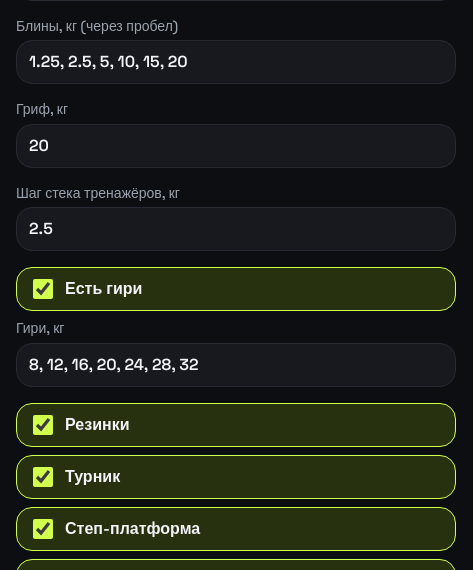
Test: инвентарь: вес грифа и шаг стека (§20.3) › текст в поле грифа — ошибка поля, а не молча пропавший гриф
Replace the text in the field labelled "Гриф, кг" with "двадцать" at point(236, 146), box [16,124,456,168]
(page scrolled)
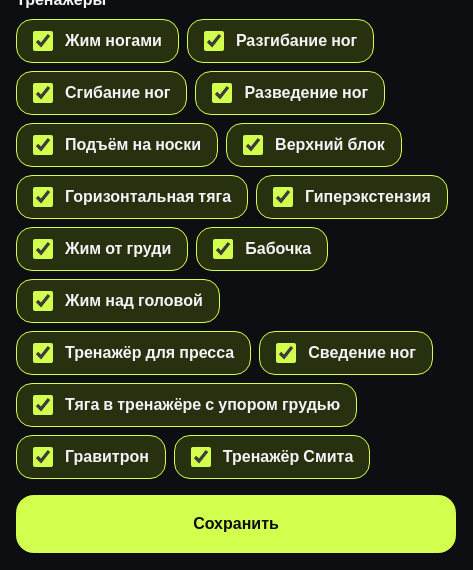
Click the button "Сохранить".
click(236, 524)  # box [16,495,456,553]
(page scrolled)
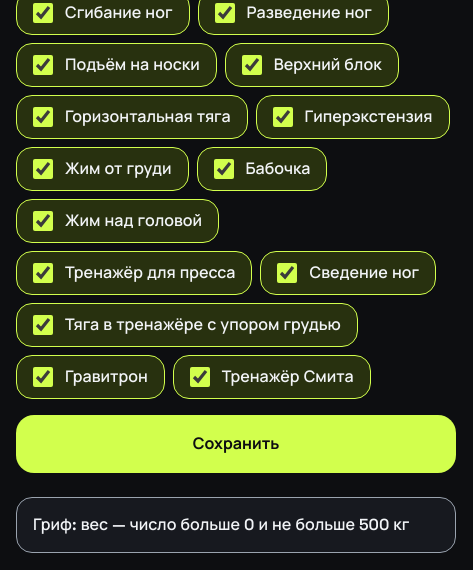
Now the message reads "Гриф: вес — число больше 0 и не больше 500 кг", box [33,514,409,535]
